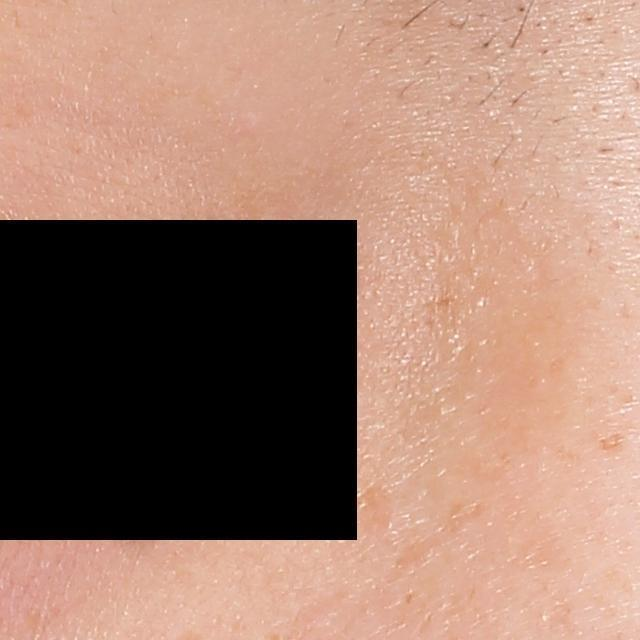melasma: (385, 499, 490, 588), (107, 504, 168, 560), (349, 481, 396, 534), (597, 431, 626, 453)
